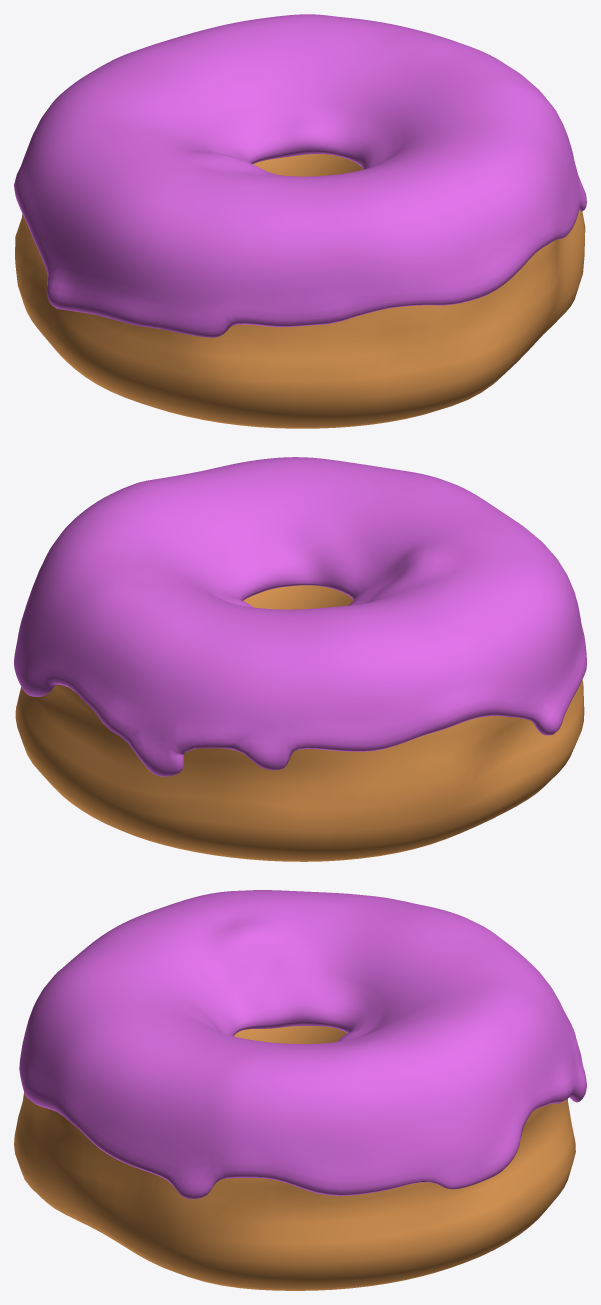
File: donut.gltf
3 views of the same model, one above another, from view 1: azimuth 30°, elevation 25°; view 2: azimuth 150°, elevation 25°; view 3: azimuth 270°, elevation 25° (orthographic).
Parts seen in each view (by area): view 1: Icing, Donut; view 2: Icing, Donut; view 3: Icing, Donut.
Boxes of the visible parts, bbox=[...] form: Icing: bbox=[14, 14, 586, 337]; Donut: bbox=[15, 154, 585, 428]; Icing: bbox=[14, 457, 586, 776]; Donut: bbox=[15, 585, 584, 861]; Icing: bbox=[19, 890, 586, 1199]; Donut: bbox=[14, 1026, 575, 1290].
Bounding box in the file's own units: 0.0949 × 0.0422 × 0.0952.
